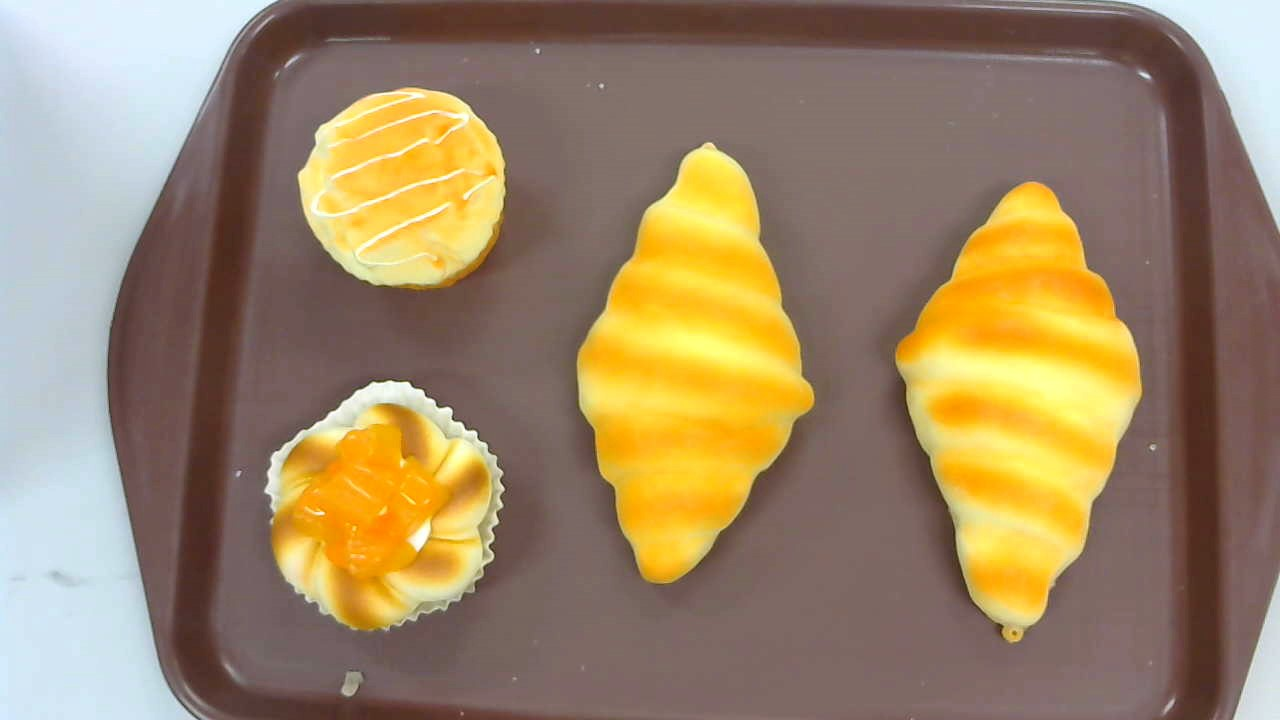croissant: (894, 179, 1143, 645), (575, 143, 816, 586)
cupcake: (298, 85, 506, 291)
mango tart: (265, 379, 505, 634)
